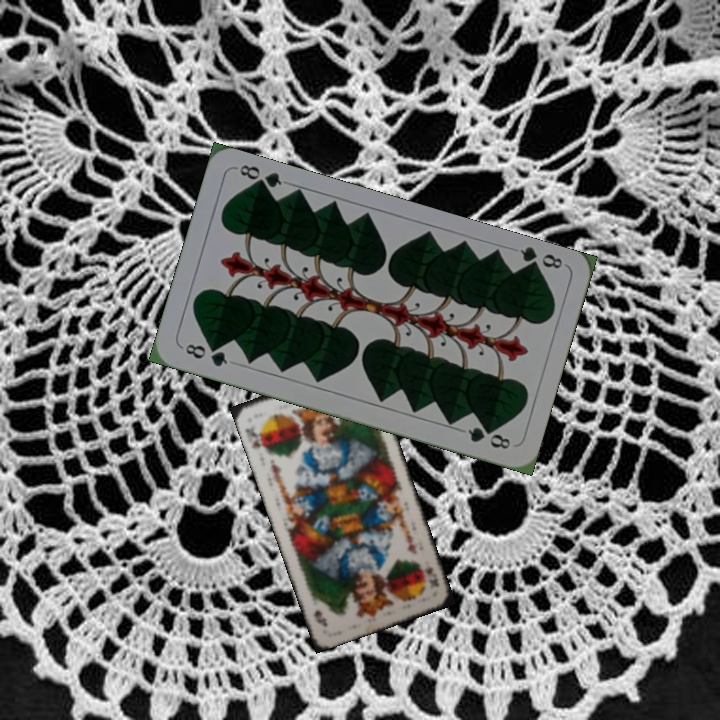G8: (516, 243, 565, 276), (181, 339, 230, 370)
SK: (241, 423, 269, 454), (422, 563, 441, 591)
